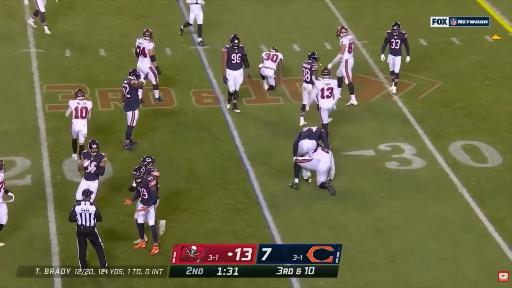Helmet: (133, 167, 146, 182), (141, 156, 155, 168), (88, 140, 99, 155), (74, 89, 86, 100), (308, 51, 319, 63), (129, 69, 141, 80), (230, 34, 240, 47), (337, 27, 348, 38), (392, 22, 401, 34), (143, 29, 153, 39), (321, 67, 330, 77), (0, 159, 4, 171), (270, 47, 278, 52)
Jersey: (293, 127, 329, 156), (313, 78, 338, 107), (82, 151, 106, 181), (137, 176, 157, 206), (222, 45, 245, 70), (385, 31, 407, 56), (69, 100, 92, 123), (123, 79, 139, 111), (136, 38, 154, 66), (302, 61, 318, 85), (262, 52, 283, 69), (340, 35, 354, 59), (311, 147, 332, 162), (147, 167, 159, 188), (0, 171, 5, 201), (147, 167, 159, 177)
Player: (125, 167, 159, 255), (290, 145, 336, 195), (328, 27, 357, 105), (222, 35, 251, 112), (381, 22, 410, 94), (135, 29, 162, 102), (312, 68, 340, 138), (76, 140, 106, 202), (66, 89, 92, 159), (122, 69, 143, 150), (300, 52, 319, 125), (293, 127, 329, 161), (180, 0, 204, 46), (0, 159, 14, 231), (259, 48, 283, 90), (27, 0, 51, 34), (140, 156, 159, 188)
